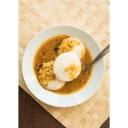idly: (38, 63, 65, 90), (55, 55, 80, 79), (59, 38, 85, 61)
